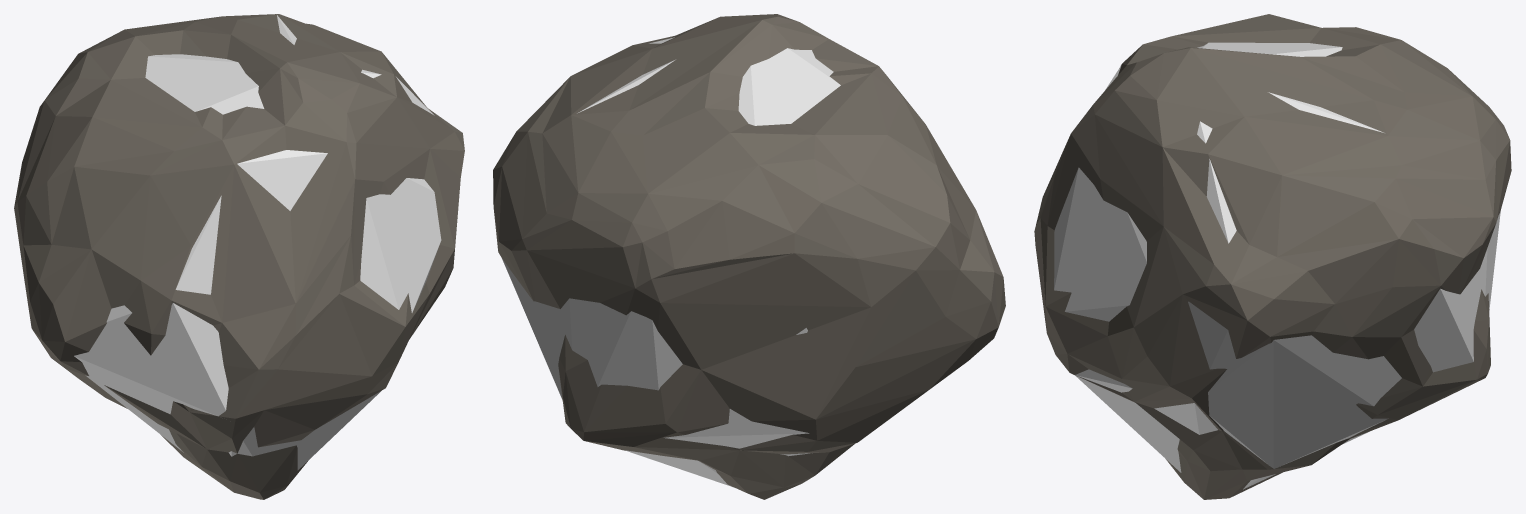
File: SM_Env_Asteroid_01.fbx
The picture shows the model from 3 angles, left to right: view 1: azimuth 30°, elevation 25°; view 2: azimuth 150°, elevation 25°; view 3: azimuth 270°, elevation 25°; orthographic projection. The views are drawn at different scales.
Visible parts, largest first — view 1: SM_Env_Asteroid_01_LOD0, SM_Env_Asteroid_01_ConvexHulls; view 2: SM_Env_Asteroid_01_LOD0, SM_Env_Asteroid_01_ConvexHulls; view 3: SM_Env_Asteroid_01_LOD0, SM_Env_Asteroid_01_ConvexHulls.
Part boxes in pixels (x1,y1,x2,y2): SM_Env_Asteroid_01_LOD0: (14,14,464,499); SM_Env_Asteroid_01_ConvexHulls: (74,15,441,470); SM_Env_Asteroid_01_LOD0: (493,14,1005,499); SM_Env_Asteroid_01_ConvexHulls: (501,37,840,487); SM_Env_Asteroid_01_LOD0: (1034,14,1511,499); SM_Env_Asteroid_01_ConvexHulls: (1054,42,1500,489).
Bounding box in the file's own units: 281 × 311 × 297.
Materials: 1 (1 with a texture image).
